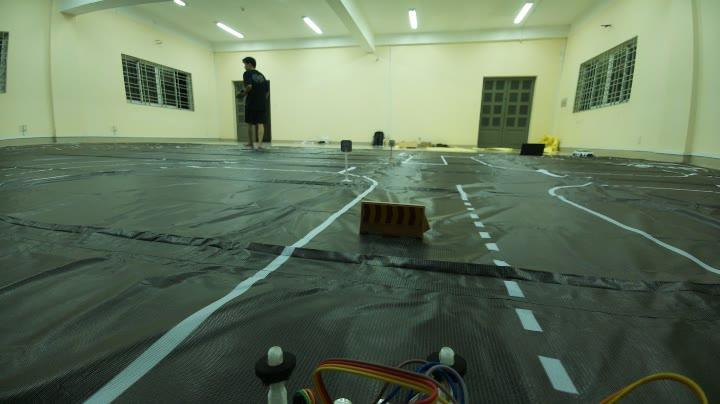roadblock: (353, 193, 434, 250)
